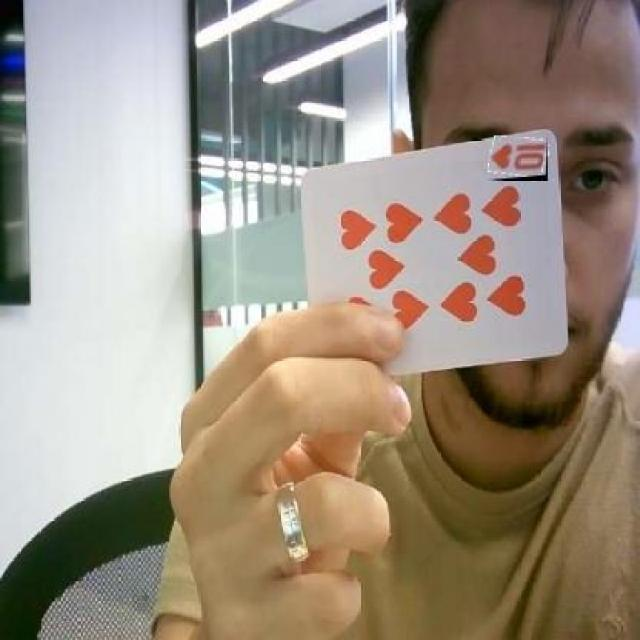10H: (489, 137, 548, 180)
